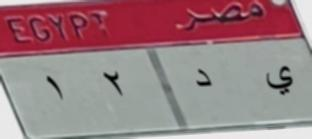1: (42, 70, 67, 108)
2: (99, 70, 131, 100)
daal: (190, 63, 217, 98)
yaa: (256, 61, 303, 106)
